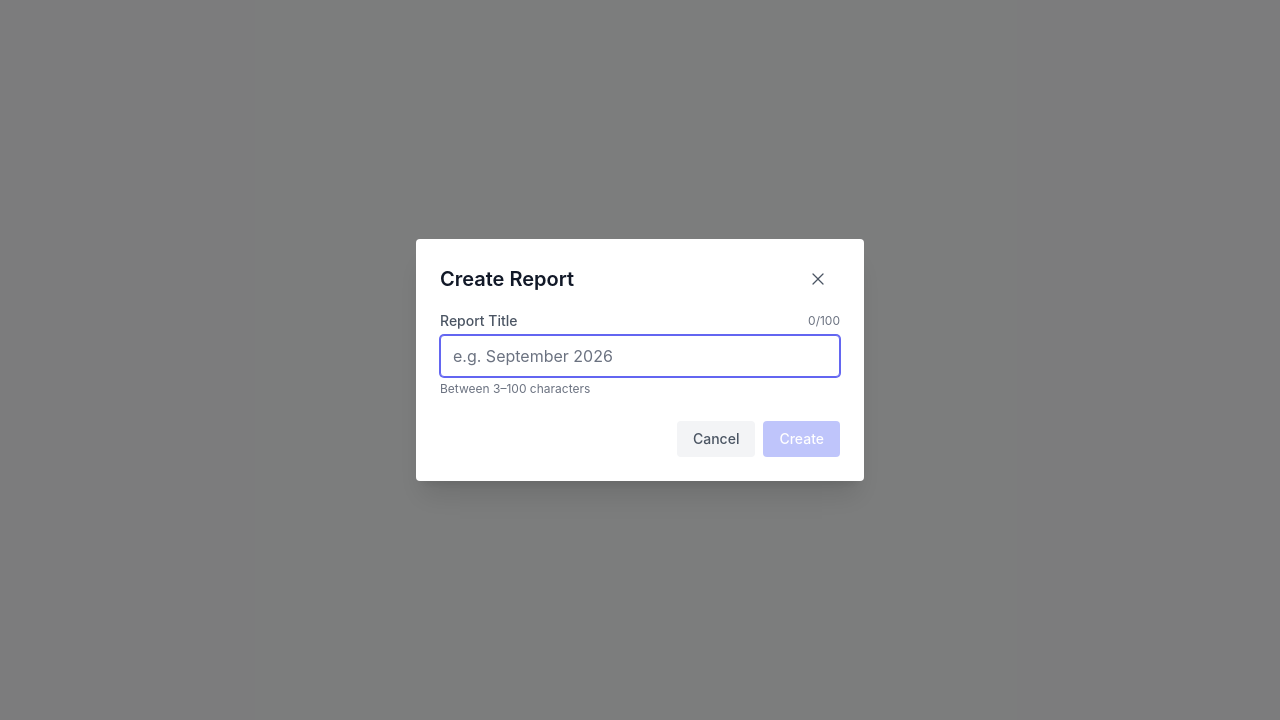
CreateReportModal › enables Create button when title meets minimum length
Type "My Report" into the field labelled "Report Title" at point(640, 356), box [440, 335, 840, 377]
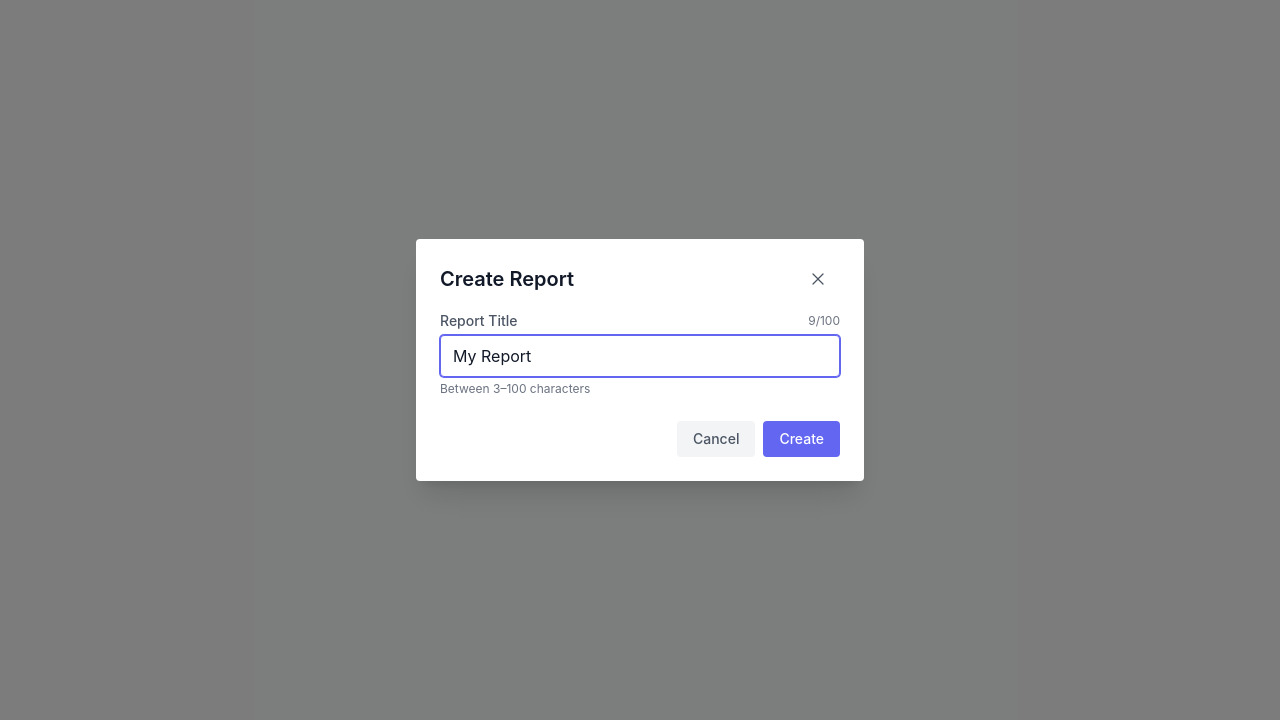
Expected: the button "Create" is enabled, [763, 421, 840, 457]
